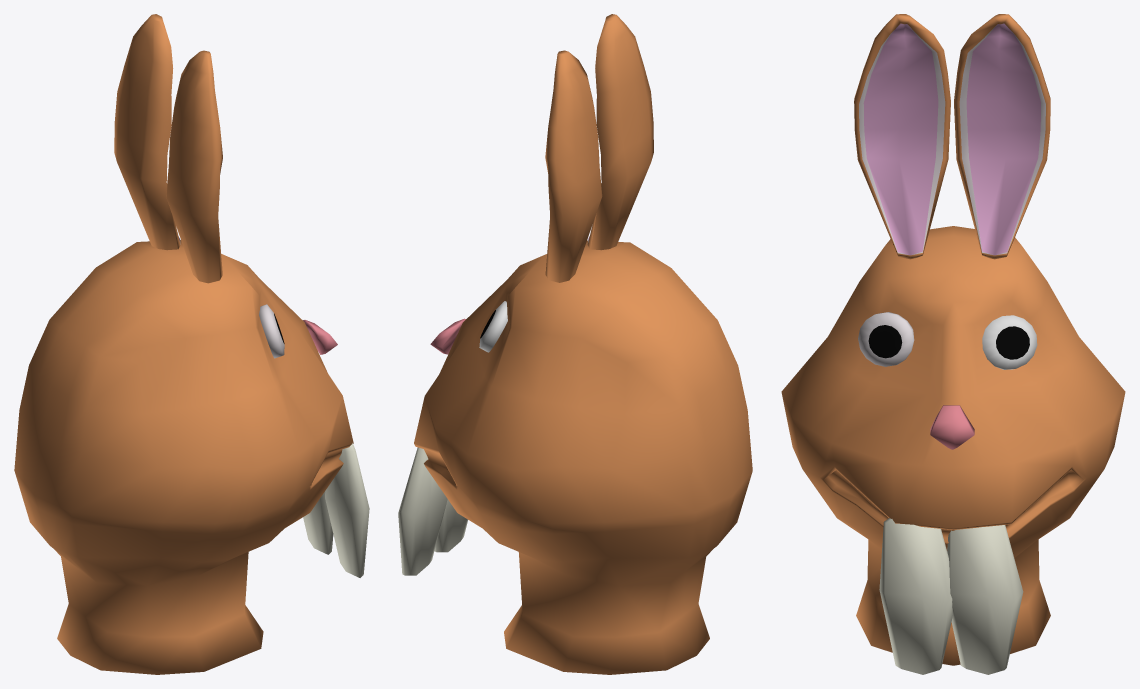
The model's file is Rabbit.glb.
3 renders of one model, left to right at view 1: azimuth 30°, elevation 25°; view 2: azimuth 150°, elevation 25°; view 3: azimuth 270°, elevation 25°, orthographic. The views are drawn at different scales.
Parts seen in each view (by area): view 1: Roundcube.008; view 2: Roundcube.008; view 3: Roundcube.008.
Part boxes in pixels (<box>): Roundcube.008: <box>14,14,369,674</box>; Roundcube.008: <box>398,14,752,674</box>; Roundcube.008: <box>781,14,1125,674</box>.
Bounding box in the file's own units: 1.01 × 1.88 × 0.9548.
